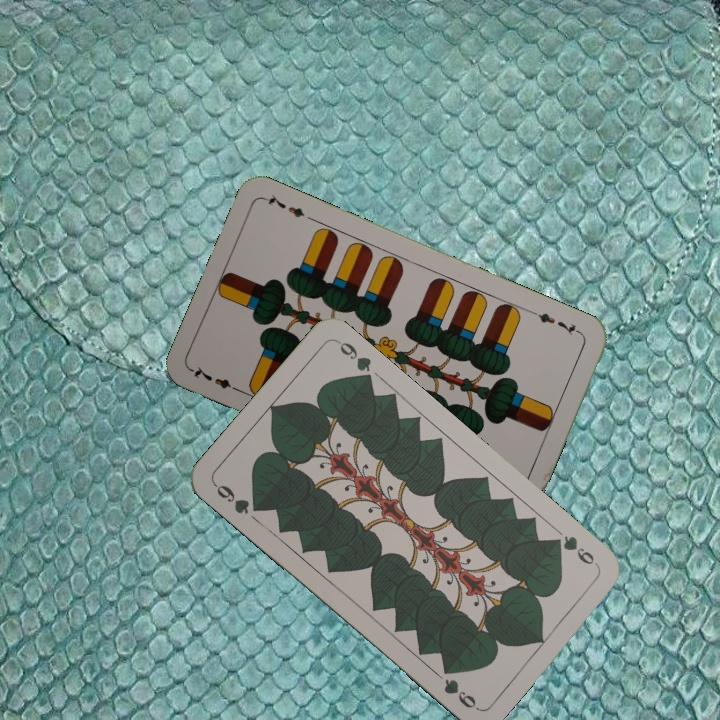E7: (188, 361, 244, 395), (528, 307, 584, 337)
G9: (210, 480, 265, 517), (547, 532, 601, 569)
